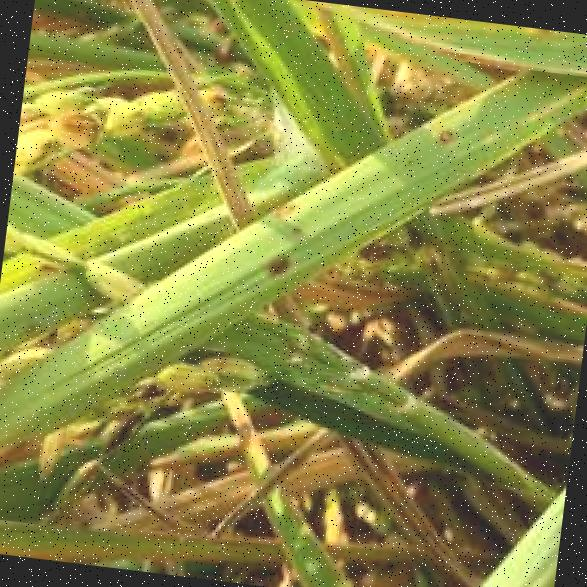Brown_Spot: (248, 238, 297, 280), (410, 118, 470, 148)
